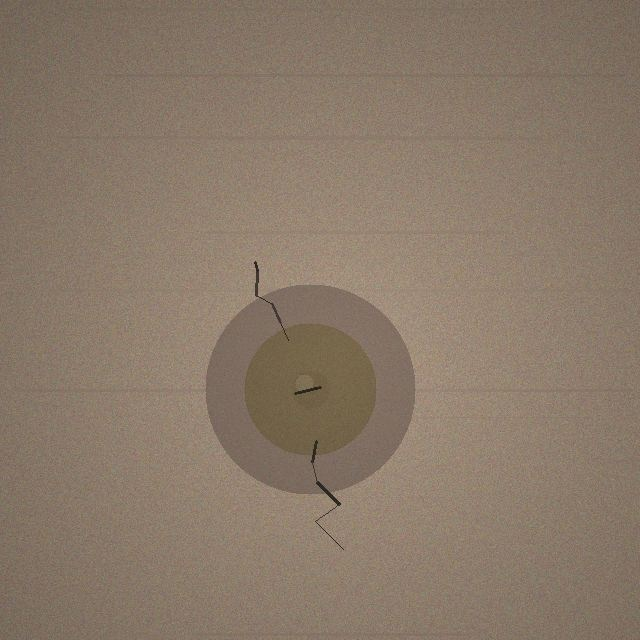crack: (205, 284, 415, 494)
